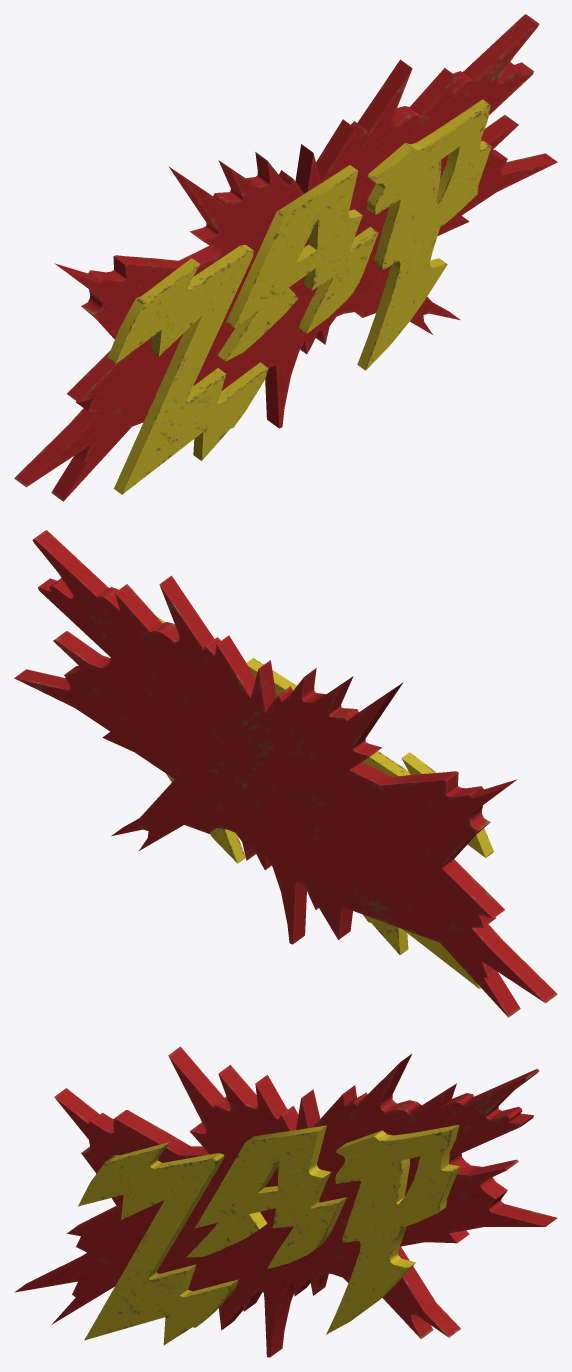
Rendered from zap.glb.
The picture shows the model from 3 angles, top to bottom: view 1: azimuth 30°, elevation 25°; view 2: azimuth 150°, elevation 25°; view 3: azimuth 330°, elevation 25°; orthographic projection.
Parts seen in each view (by area): view 1: Zap_1.1; view 2: Zap_1.1; view 3: Zap_1.1.
Boxes of the visible parts, x1,y1,x2,y2 form: Zap_1.1: (14,14,557,501); Zap_1.1: (14,530,557,1017); Zap_1.1: (14,1046,557,1357).
Bounding box in the file's own units: 0.0934 × 0.0609 × 0.00791.
Materials: 1 (1 with a texture image).
